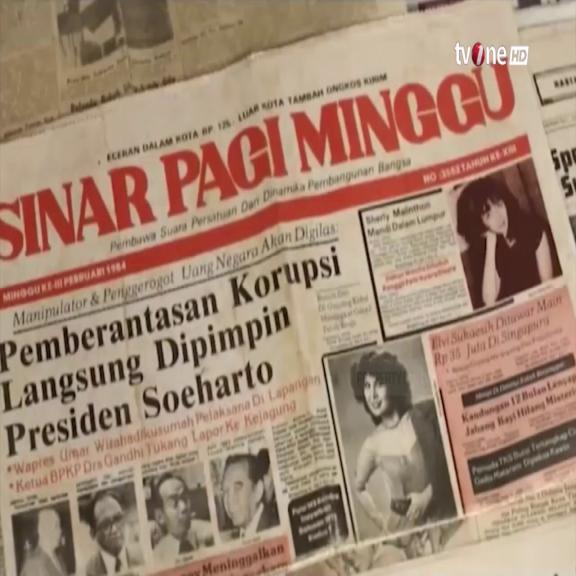Kertas: (0, 5, 560, 313), (5, 249, 334, 563)
